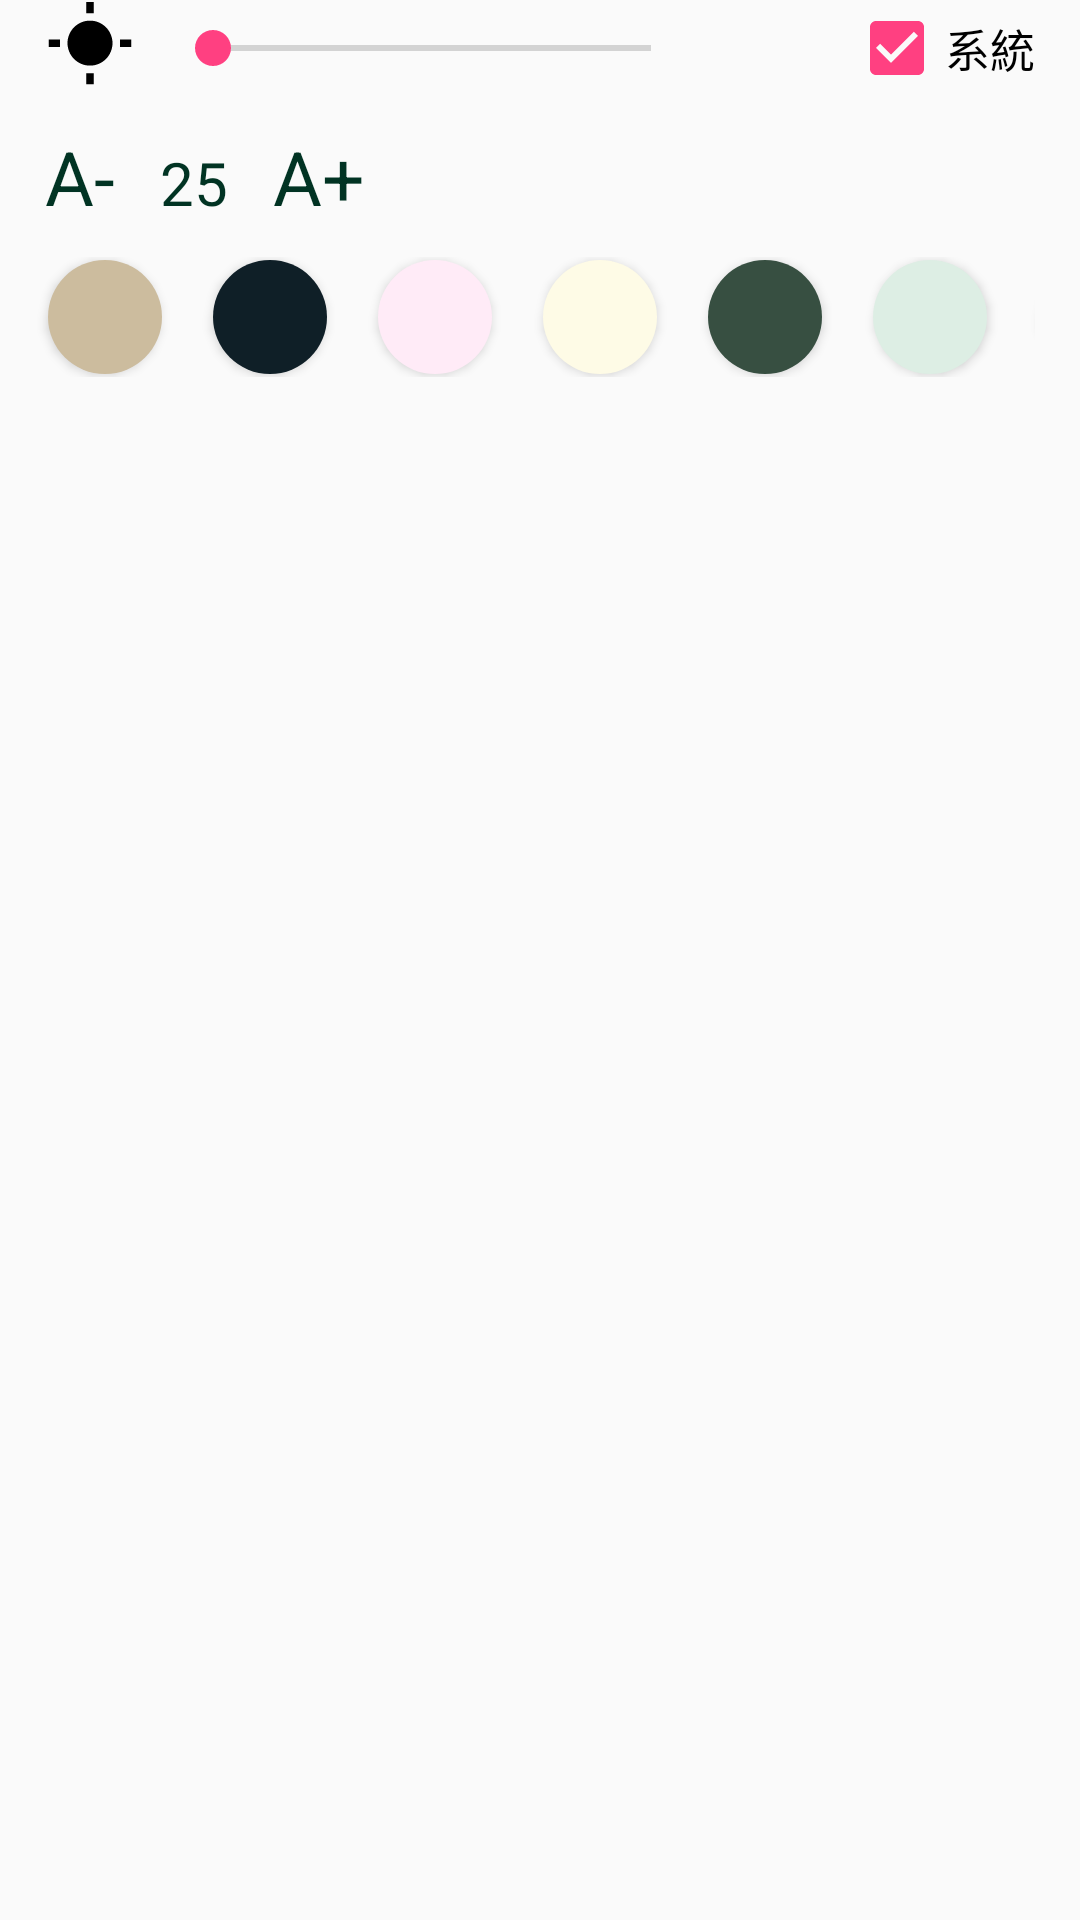

Icon click points for this 1080 × 1920 phone screenshot, format point (x, y):
sunny: point (90, 43)
